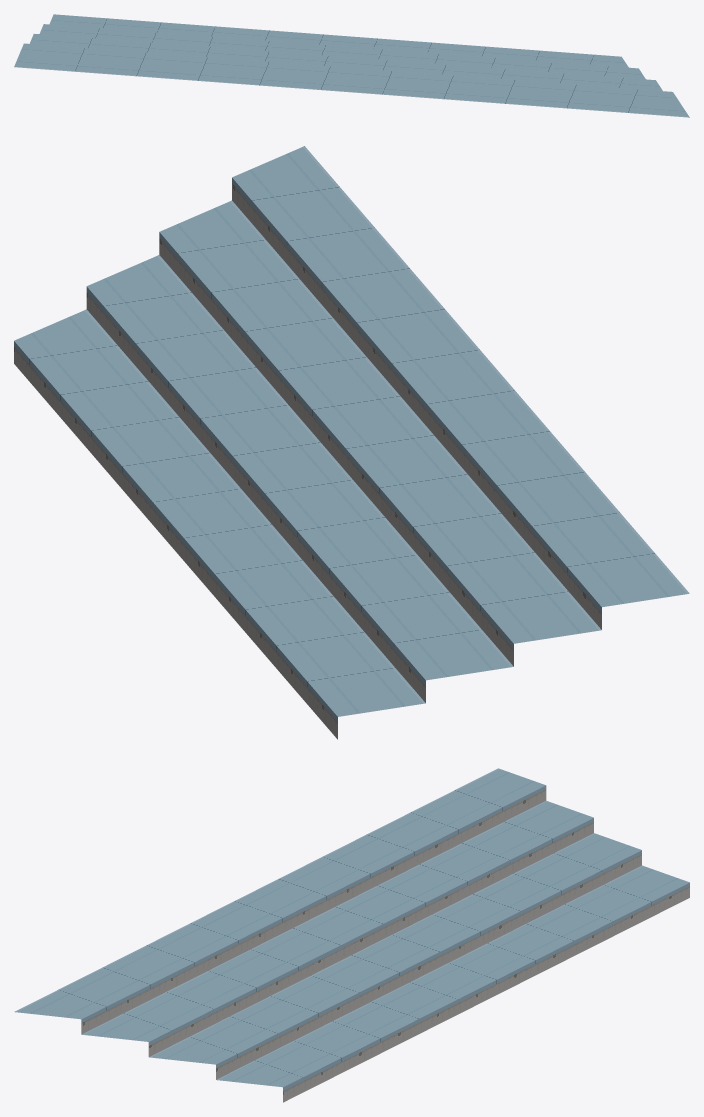
Rendered from kd_stage_13612f_3_31_bounded.glb.
3 views of the same model, one above another, from view 1: azimuth 30°, elevation 25°; view 2: azimuth 150°, elevation 25°; view 3: azimuth 270°, elevation 25° (orthographic). The views are drawn at different scales.
Parts seen in each view (by area): view 1: kd_stage_13612f_3_31_bounded; view 2: kd_stage_13612f_3_31_bounded; view 3: kd_stage_13612f_3_31_bounded.
Part boxes in pixels (x1,y1,x2,y2): kd_stage_13612f_3_31_bounded: [14, 14, 689, 117]; kd_stage_13612f_3_31_bounded: [14, 146, 689, 739]; kd_stage_13612f_3_31_bounded: [14, 768, 689, 1102].
Size of the model in its own units: 6.85 by 0.72 by 7.17.
Materials: 1 (1 with a texture image).
